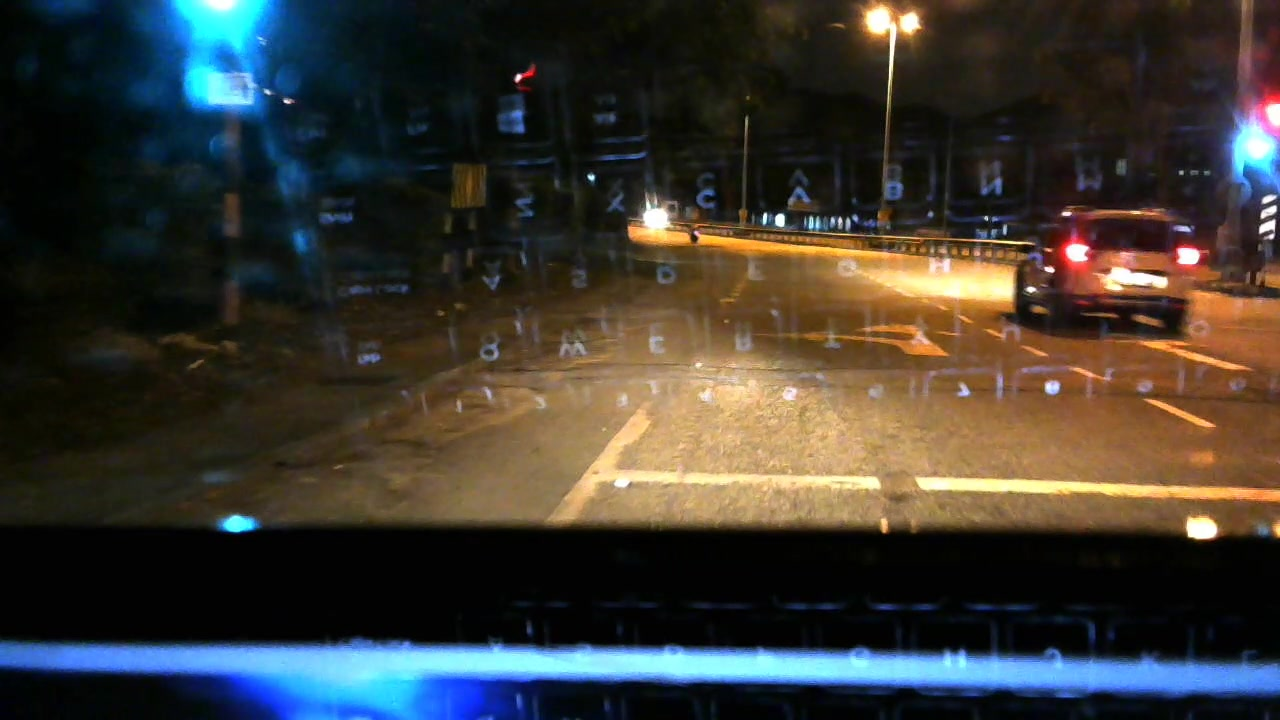Car: (1010, 190, 1207, 332)
